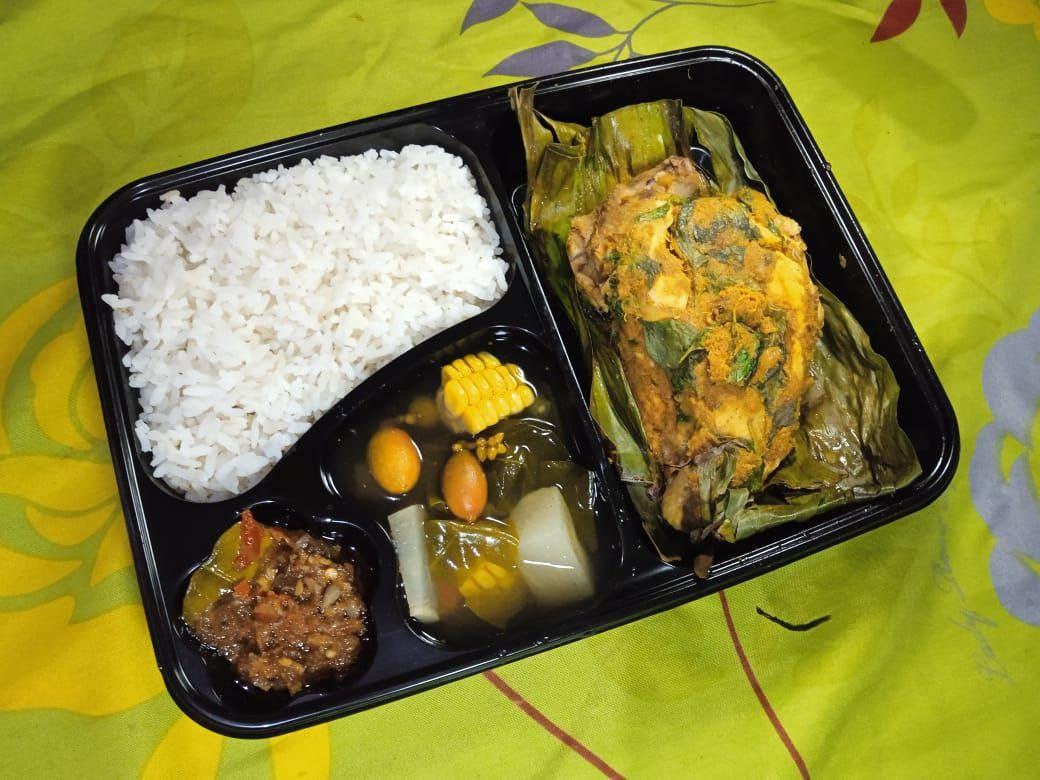buah_sayur_lainnya: (402, 433, 567, 617), (210, 556, 338, 681)
daging: (622, 188, 777, 439)
makanan_berpati: (140, 223, 382, 342)
